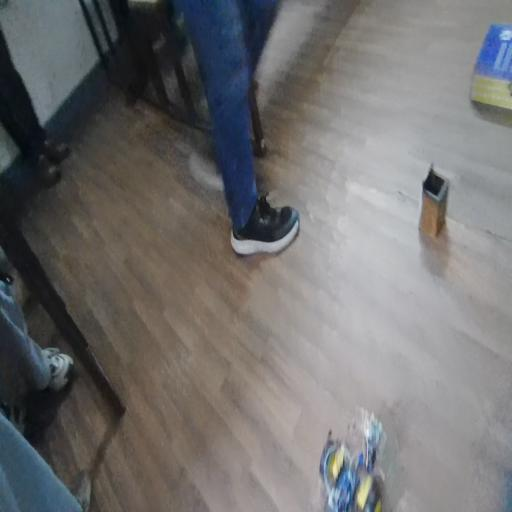car: (318, 414, 402, 512)
